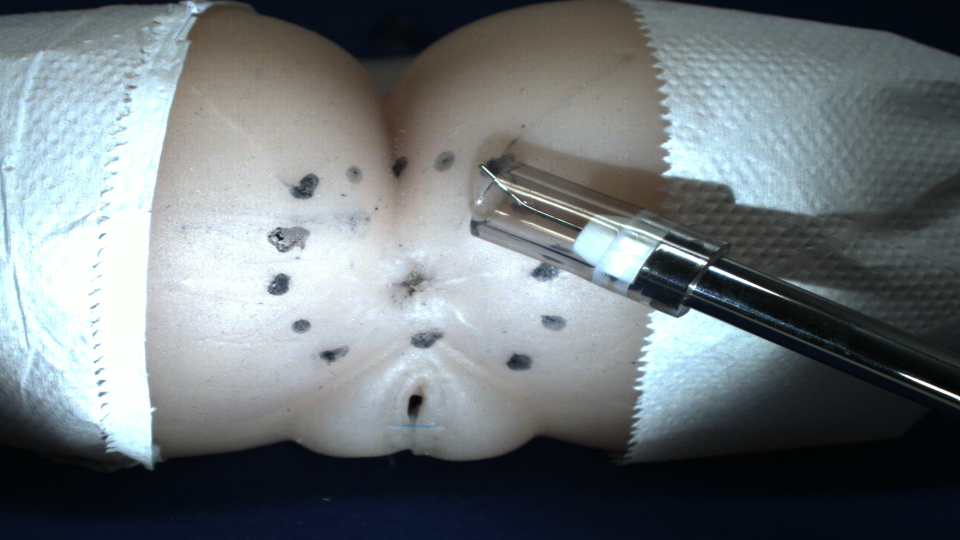asarp_marker: (260, 224, 315, 255), (283, 169, 325, 205), (406, 321, 445, 349), (264, 271, 297, 300), (430, 147, 459, 180), (531, 258, 564, 285), (319, 340, 353, 366), (501, 352, 538, 371), (340, 159, 364, 186), (534, 309, 566, 329), (288, 312, 316, 334), (384, 152, 411, 174)
